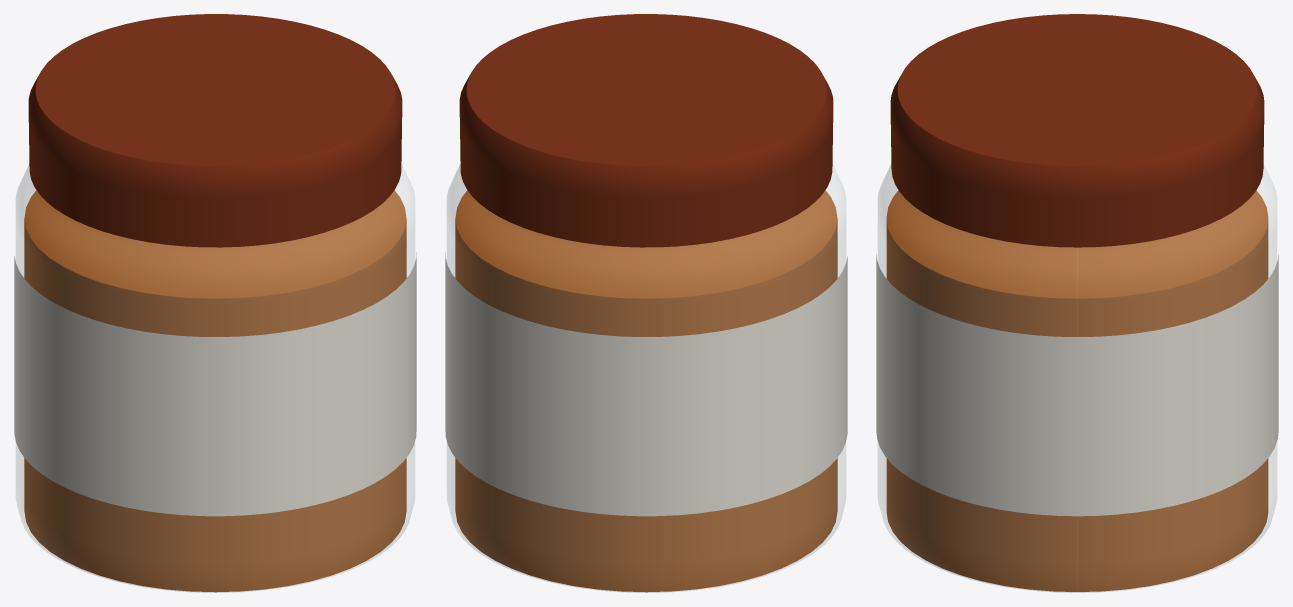
The model's file is glass-jar.glb.
3 views of the same model, side by side, from view 1: azimuth 30°, elevation 25°; view 2: azimuth 150°, elevation 25°; view 3: azimuth 270°, elevation 25° (orthographic).
Visible parts, largest first — view 1: Lid, Label, Glass, Contents; view 2: Lid, Label, Glass, Contents; view 3: Lid, Label, Glass, Contents.
Part boxes in pixels (box(x1,y1,x2,y2)): Lid: box(28, 14, 402, 247); Label: box(14, 252, 416, 516); Glass: box(16, 164, 414, 592); Contents: box(24, 190, 406, 592); Lid: box(459, 14, 833, 247); Label: box(445, 252, 847, 516); Glass: box(447, 164, 845, 592); Contents: box(455, 190, 837, 592); Lid: box(890, 14, 1264, 247); Label: box(876, 254, 1278, 516); Glass: box(878, 165, 1276, 592); Contents: box(886, 190, 1268, 591).
Bounding box in the file's own units: 0.0855 × 0.1 × 0.0855.
